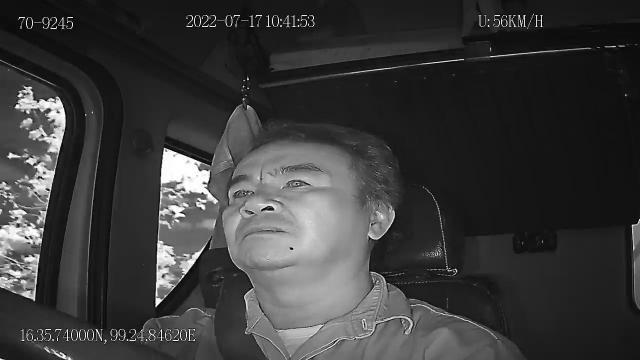SafeDriving: (273, 166, 323, 195), (224, 178, 260, 206)
Seatbelt: (212, 274, 270, 360)
